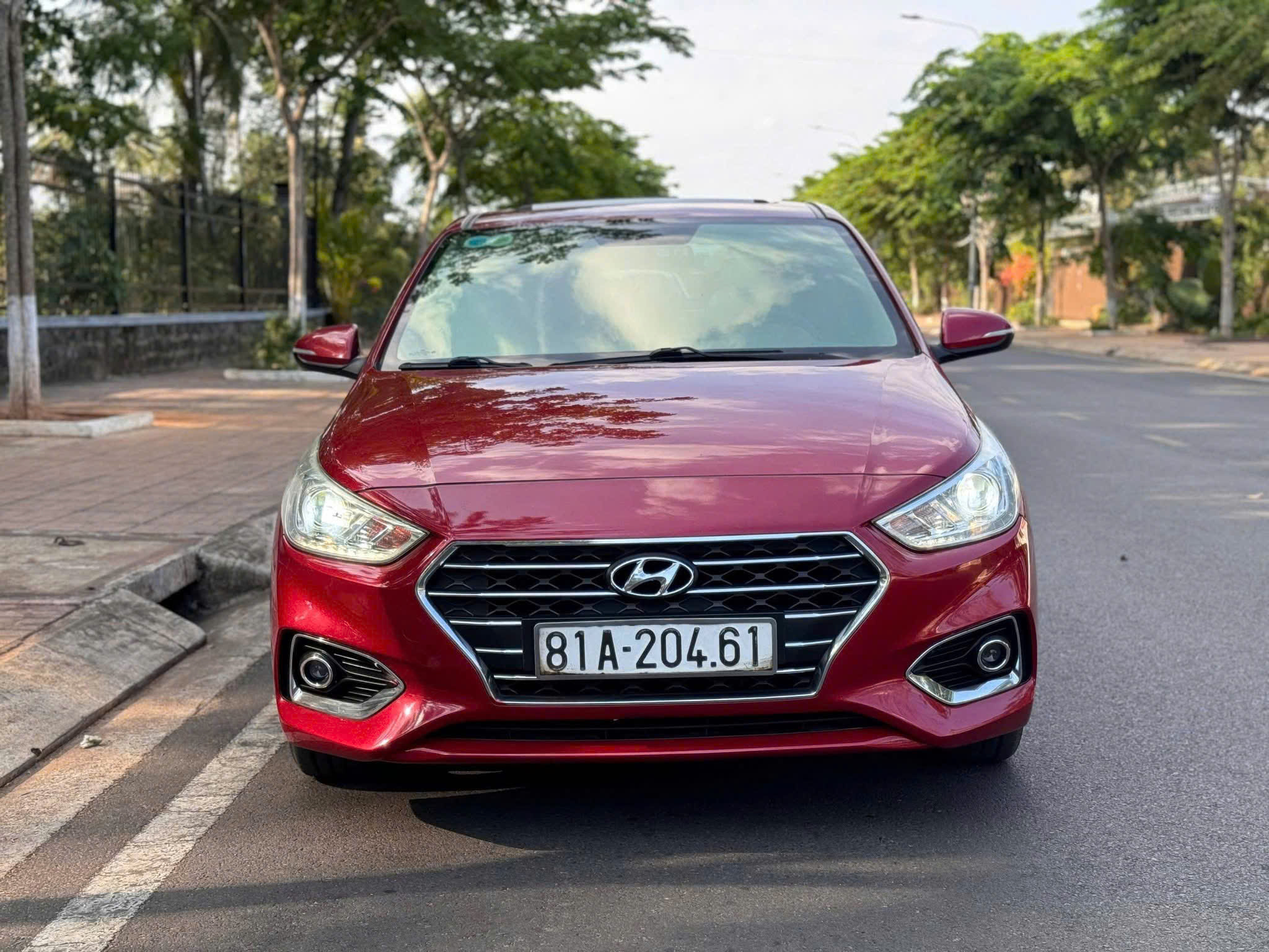Bien-so: (537, 626, 780, 672)
